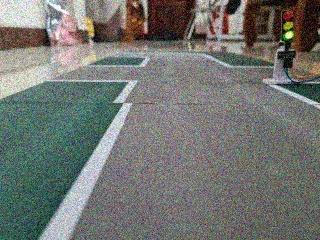green: (274, 6, 298, 58)
